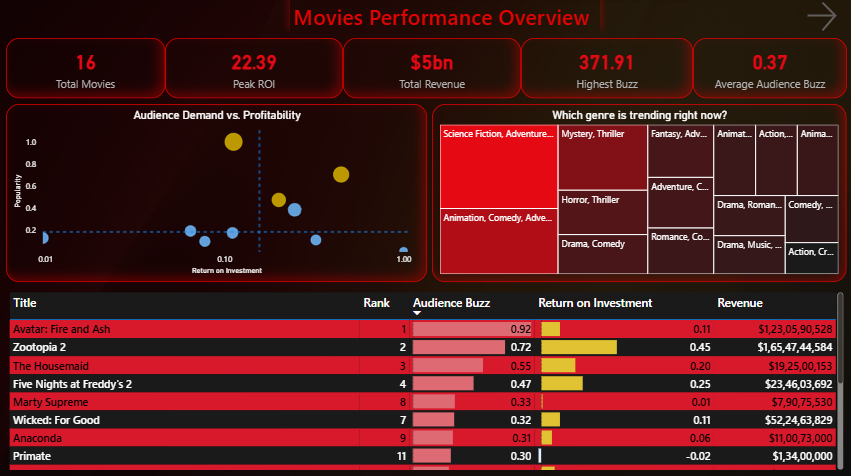

This screenshot's page, from the dashboard's own definition file:
{"tool":"powerbi","page":{"name":"Movies Performance Overview","canvas":[1280,720],"ordinal":0},"visuals":[{"type":"textbox","box":[436.2,0,463.1,55.3],"z":0},{"type":"card","fields":{"Values":["CountNonNull(final_movie_analysis_data.Title)"]},"box":[12,59.8,237.5,89.6],"z":1000},{"type":"card","fields":{"Values":["final_movie_analysis_data.KPI Max ROI"]},"box":[249.5,59.8,265.9,89.6],"z":2000},{"type":"card","fields":{"Values":["final_movie_analysis_data.KPI Max Buzz"]},"box":[781.2,59.8,256.9,89.6],"z":3000},{"type":"card","fields":{"Values":["final_movie_analysis_data.Average WSS"]},"box":[1038.2,59.8,230,89.6],"z":4000},{"type":"card","fields":{"Values":["Sum(final_movie_analysis_data.revenue)"]},"box":[515.4,59.8,265.9,89.6],"z":5000},{"type":"scatterChart","title":"Audience Demand vs. Profitability","fields":{"X":["final_movie_analysis_data.Return On Investment"],"Size":["final_movie_analysis_data.Audience Buzz"],"Category":["final_movie_analysis_data.Title"],"Y":["final_movie_analysis_data.Pop_Norm"]},"box":[12,159,629,266],"z":6000},{"type":"treemap","title":"Which genre is trending right now?","fields":{"Group":["final_movie_analysis_data.genres"],"Values":["final_movie_analysis_data.Audience Buzz"]},"box":[649,159,619,266],"z":7000},{"type":"tableEx","fields":{"Values":["final_movie_analysis_data.Title","final_movie_analysis_data.Final Rank","final_movie_analysis_data.Audience Buzz","final_movie_analysis_data.ROI_Norm","Sum(final_movie_analysis_data.revenue)"]},"box":[11.8,434.9,1256.3,274.8],"z":8000},{"type":"actionButton","box":[1202.5,0,55.3,55.3],"z":9000}]}

Visuals, with their boxes in screenshot pixels (x1, y1, x2, y2), scaled from the page's 1280x720 canvas onto the 851x476 screenshot:
textbox: bbox(290, 0, 598, 37)
card - CountNonNull(final_movie_analysis_data.Title): bbox(8, 40, 166, 99)
card - final_movie_analysis_data.KPI Max ROI: bbox(166, 40, 343, 99)
card - final_movie_analysis_data.KPI Max Buzz: bbox(519, 40, 690, 99)
card - final_movie_analysis_data.Average WSS: bbox(690, 40, 843, 99)
card - Sum(final_movie_analysis_data.revenue): bbox(343, 40, 519, 99)
"Audience Demand vs. Profitability" scatterChart: bbox(8, 105, 426, 281)
"Which genre is trending right now?" treemap: bbox(431, 105, 843, 281)
tableEx - final_movie_analysis_data.Title x final_movie_analysis_data.Final Rank: bbox(8, 288, 843, 469)
actionButton: bbox(799, 0, 836, 37)
